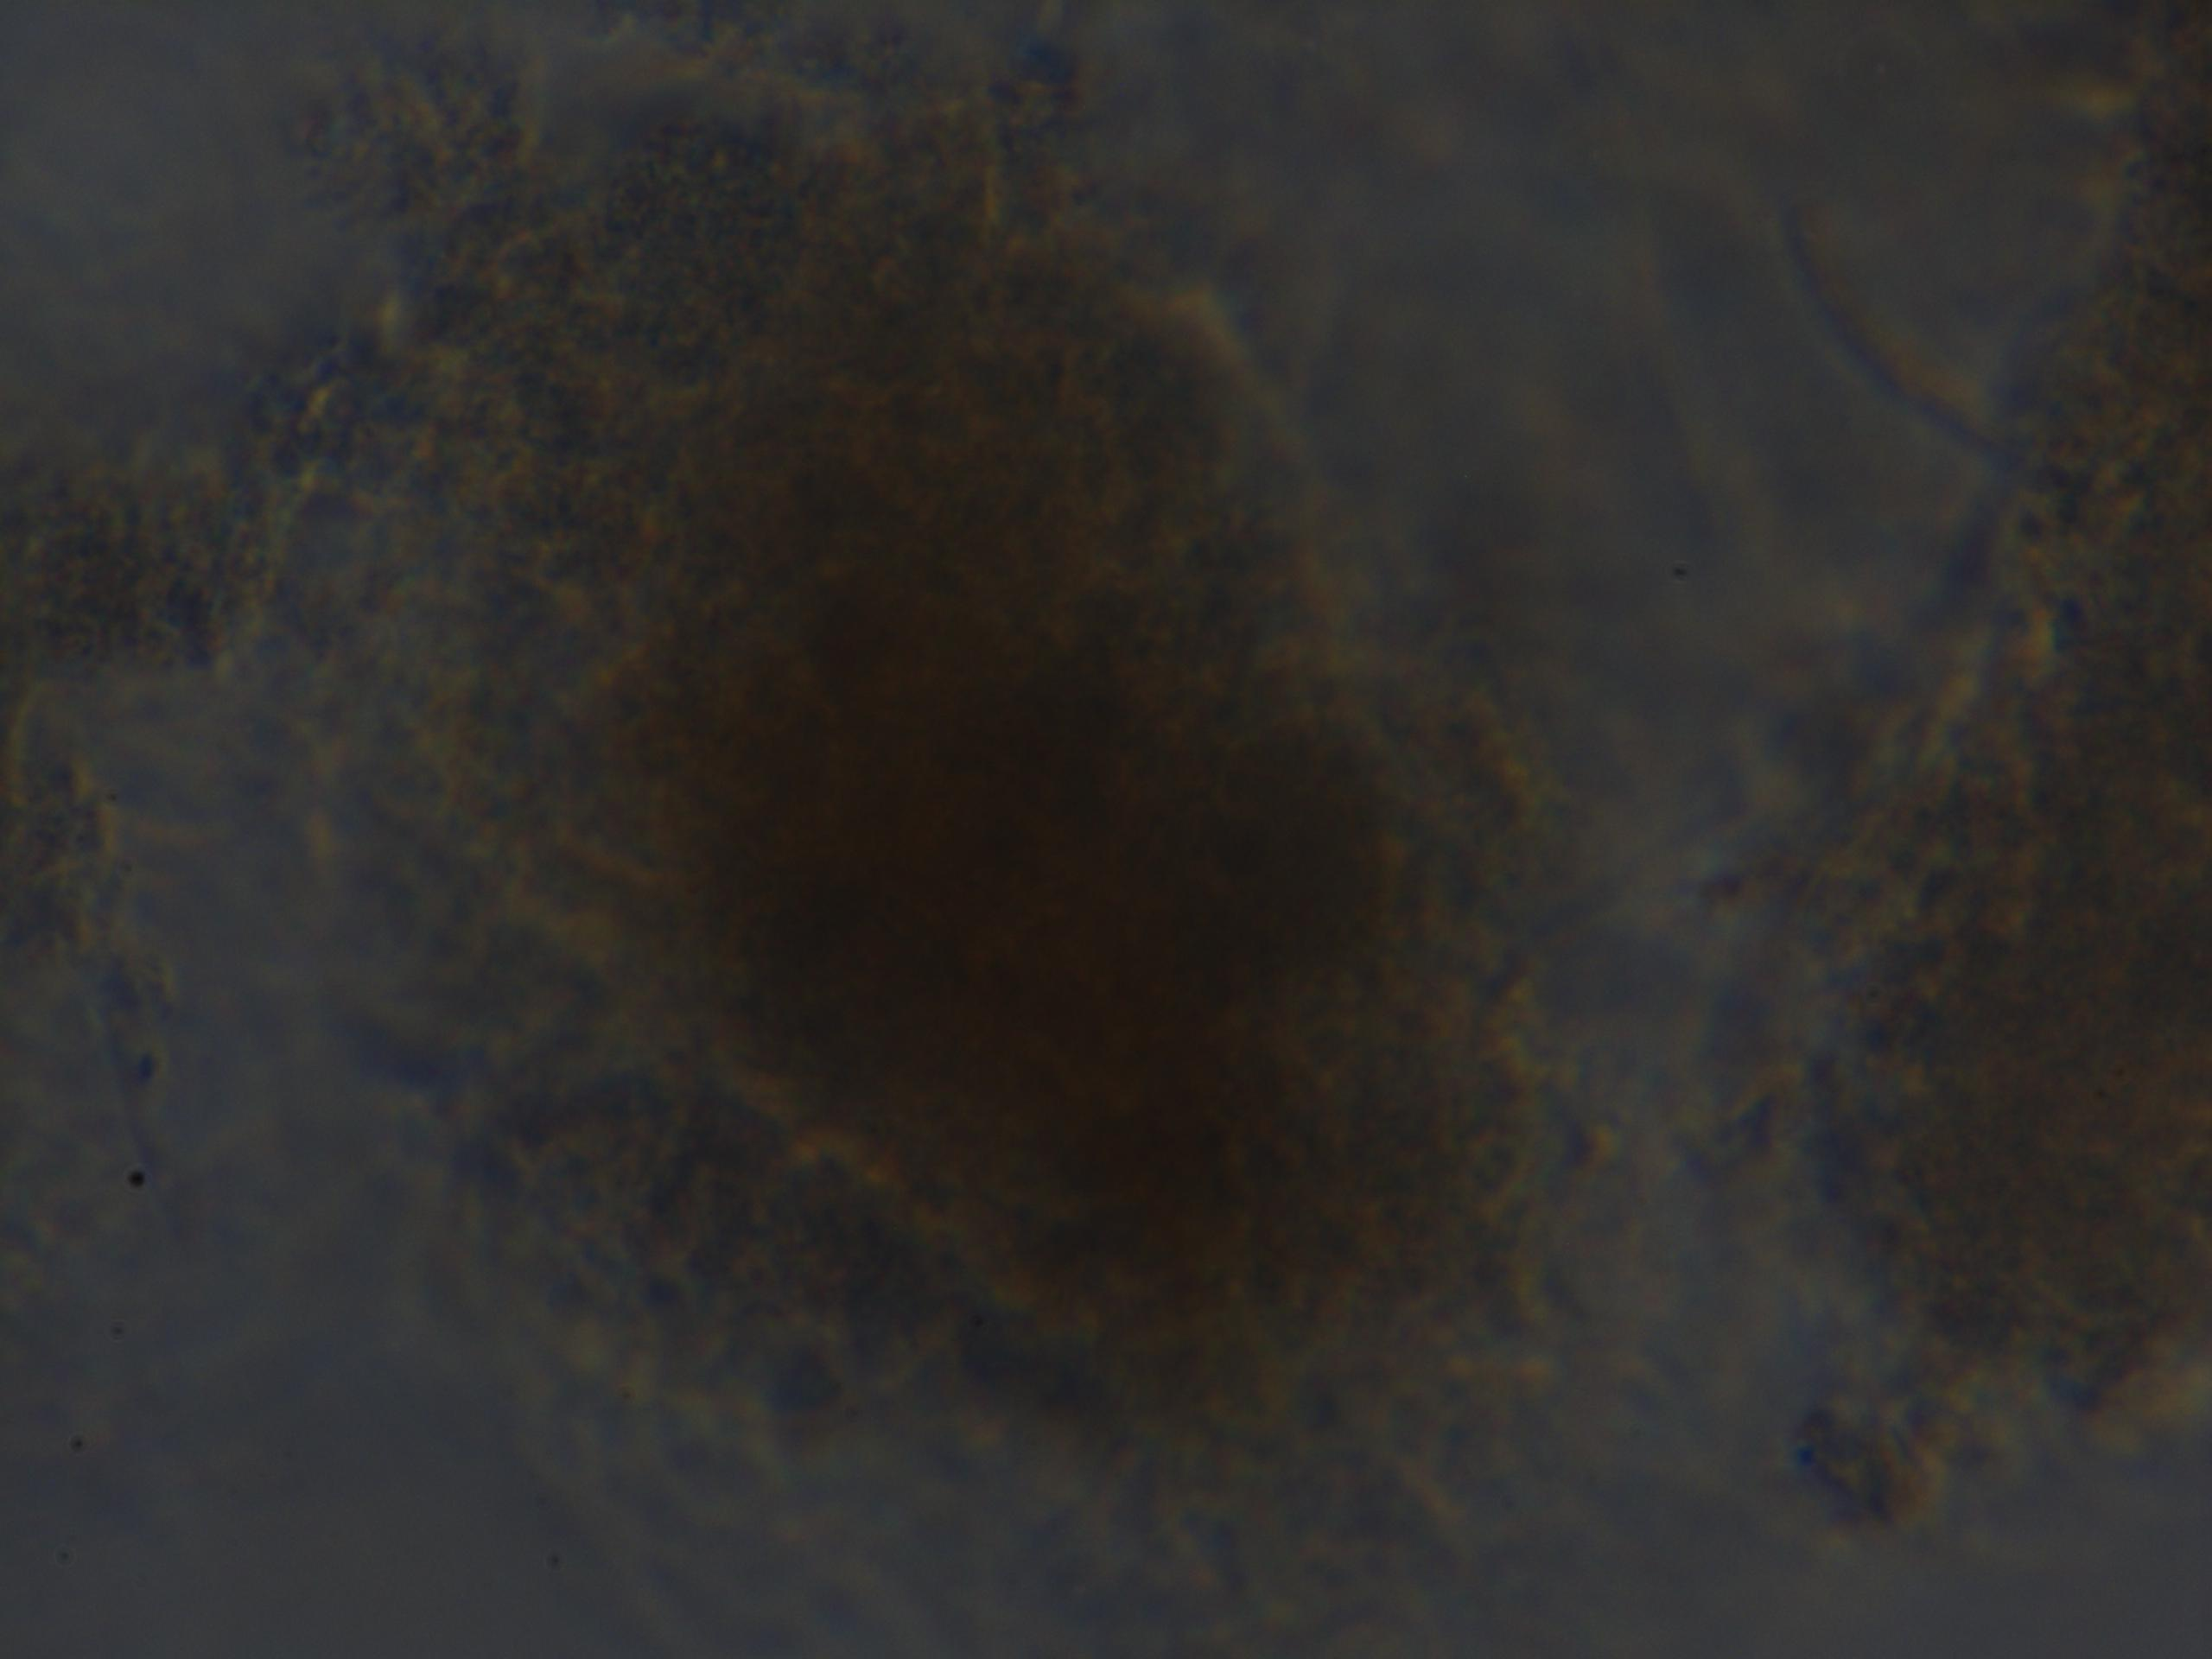spherical_floc: (423, 115, 1519, 1427)
